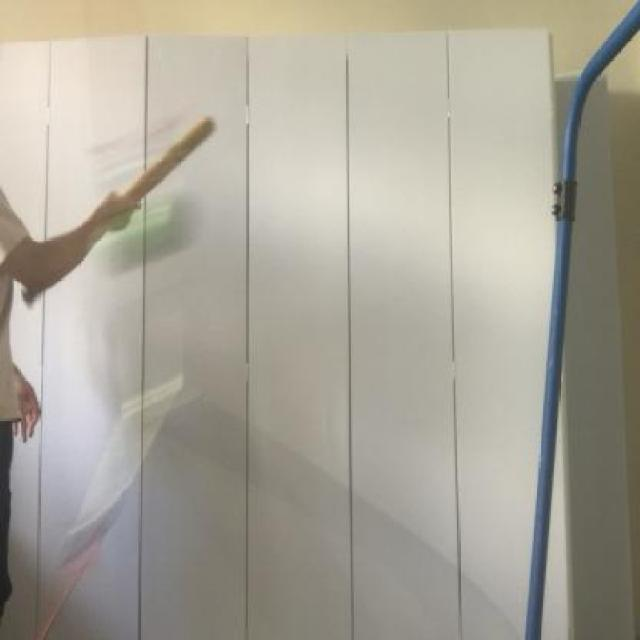baseball: (105, 185, 209, 289)
